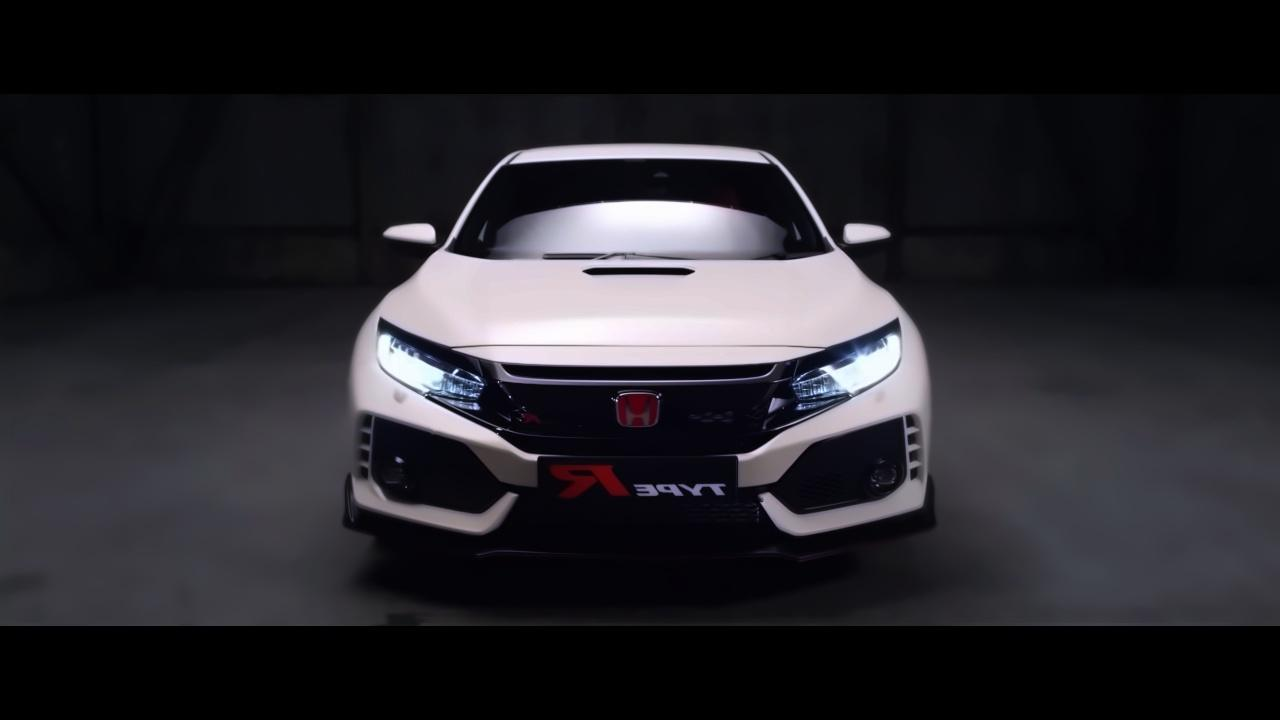Car hood: (370, 242, 901, 382)
Front bumper: (348, 367, 934, 549)
Headlight - -L-: (759, 319, 902, 439)
Headlight - -R-: (371, 305, 503, 432)
Side mirror - -L-: (837, 222, 894, 262)
Side mirror - -R-: (378, 223, 442, 254)
